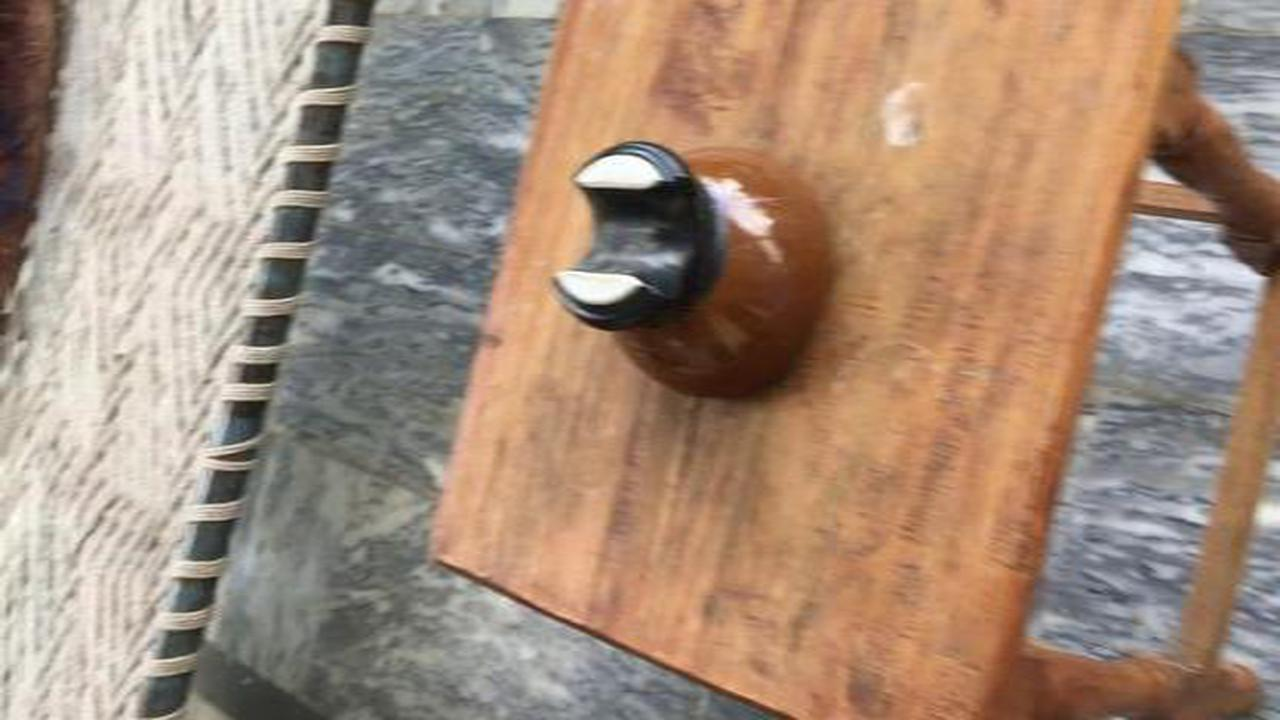insulator_pin: (539, 132, 865, 416)
